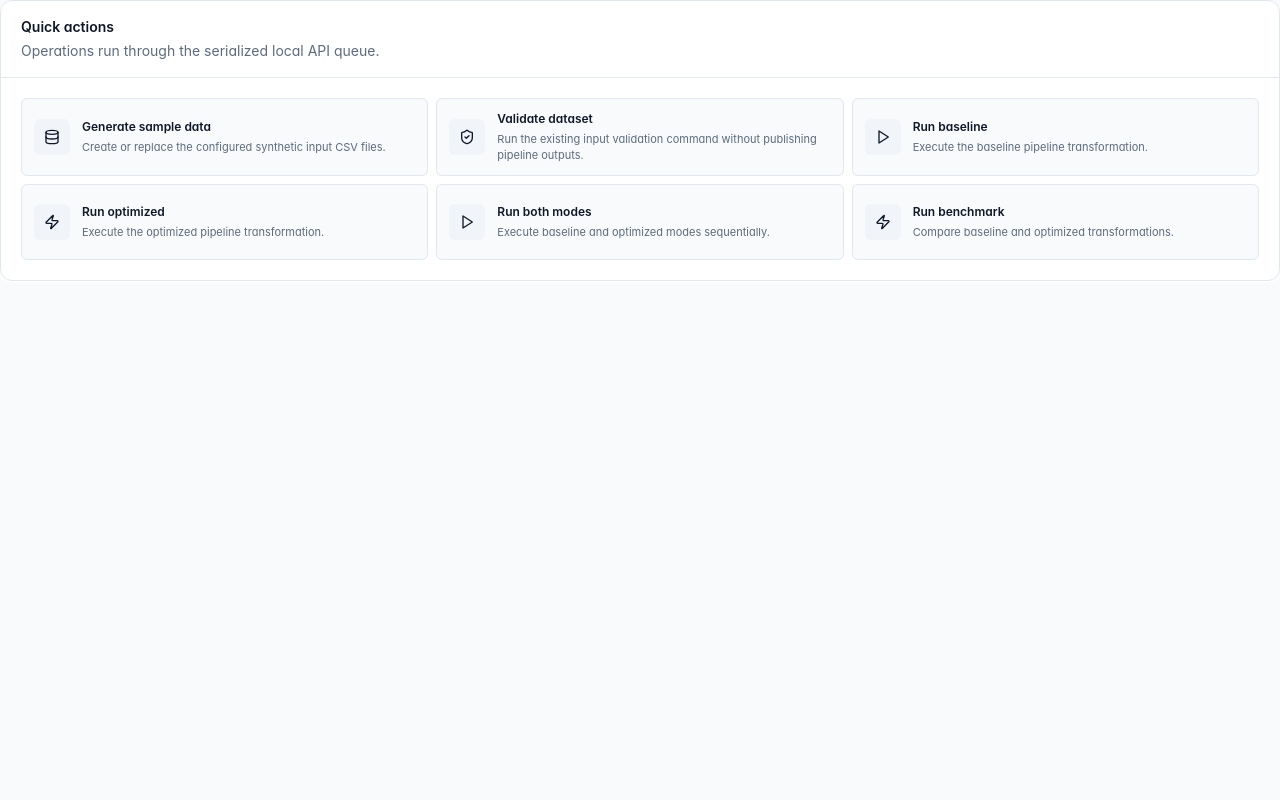
Test: QuickActions › requires explicit confirmation before publishing a pipeline run
The image size is (1280, 800).
Click the button "Run both modes".
click(640, 222)  # box [436,184,844,260]
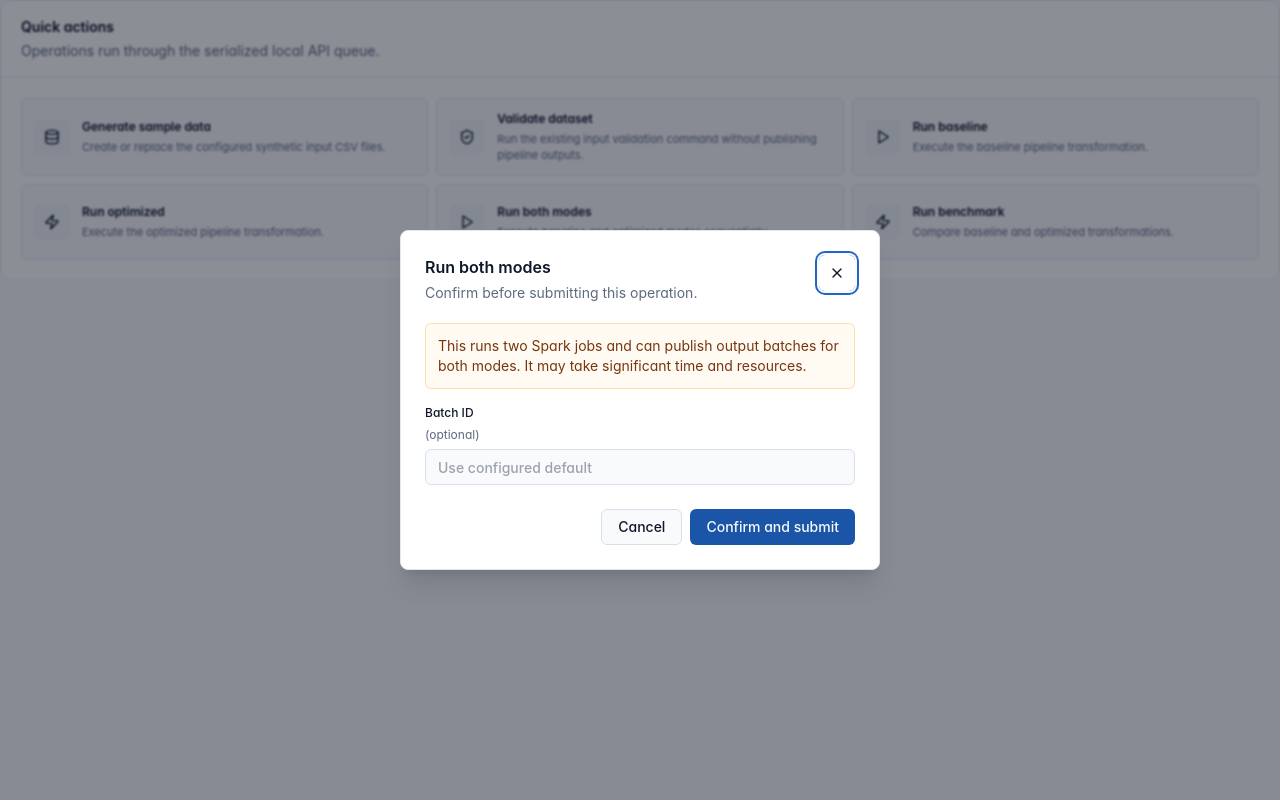
Expected: the text "can publish output batches for both modes" is shown, [438,337,839,374]
Click the button "Confirm and submit".
click(773, 527)  # box [690,509,855,545]
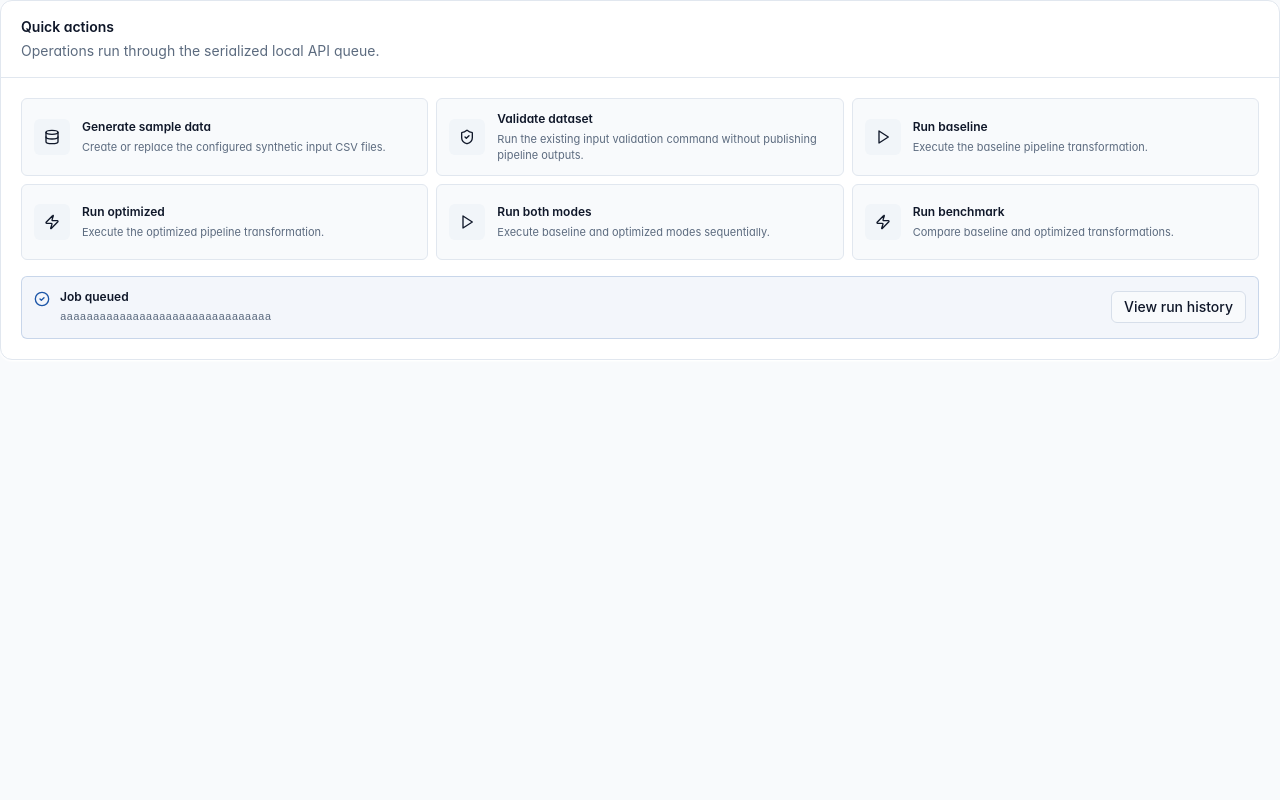
Expected: the text "Job queued" is shown, [60,289,129,304]
